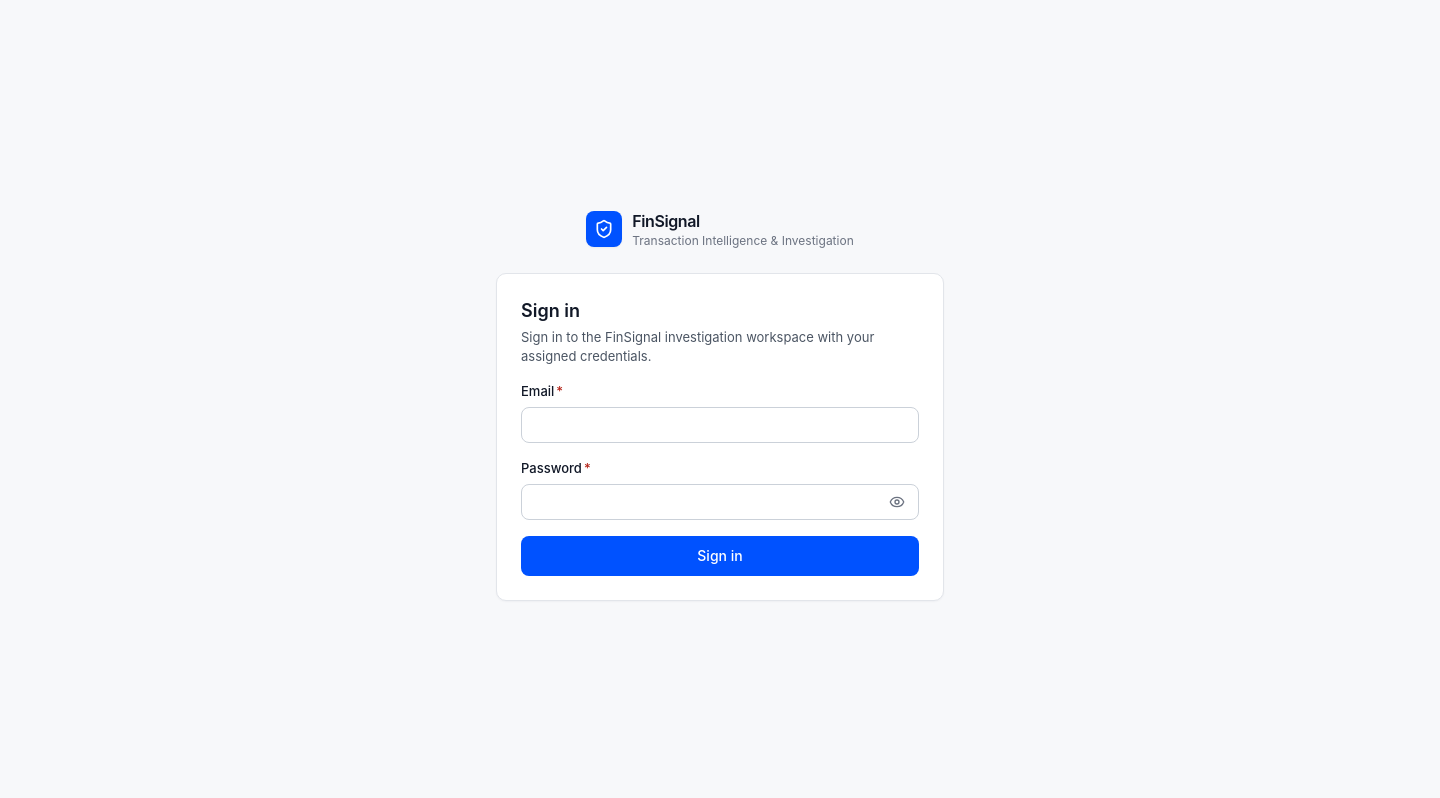
Test: LoginPage (F2.5) › disables submit during in-flight login to prevent duplicate submission
Later steps or results of the test are not shown.
Type "analyst@finsignal.test" into the field labelled "Email*". click: (720, 425)
box: [521,407,919,443]
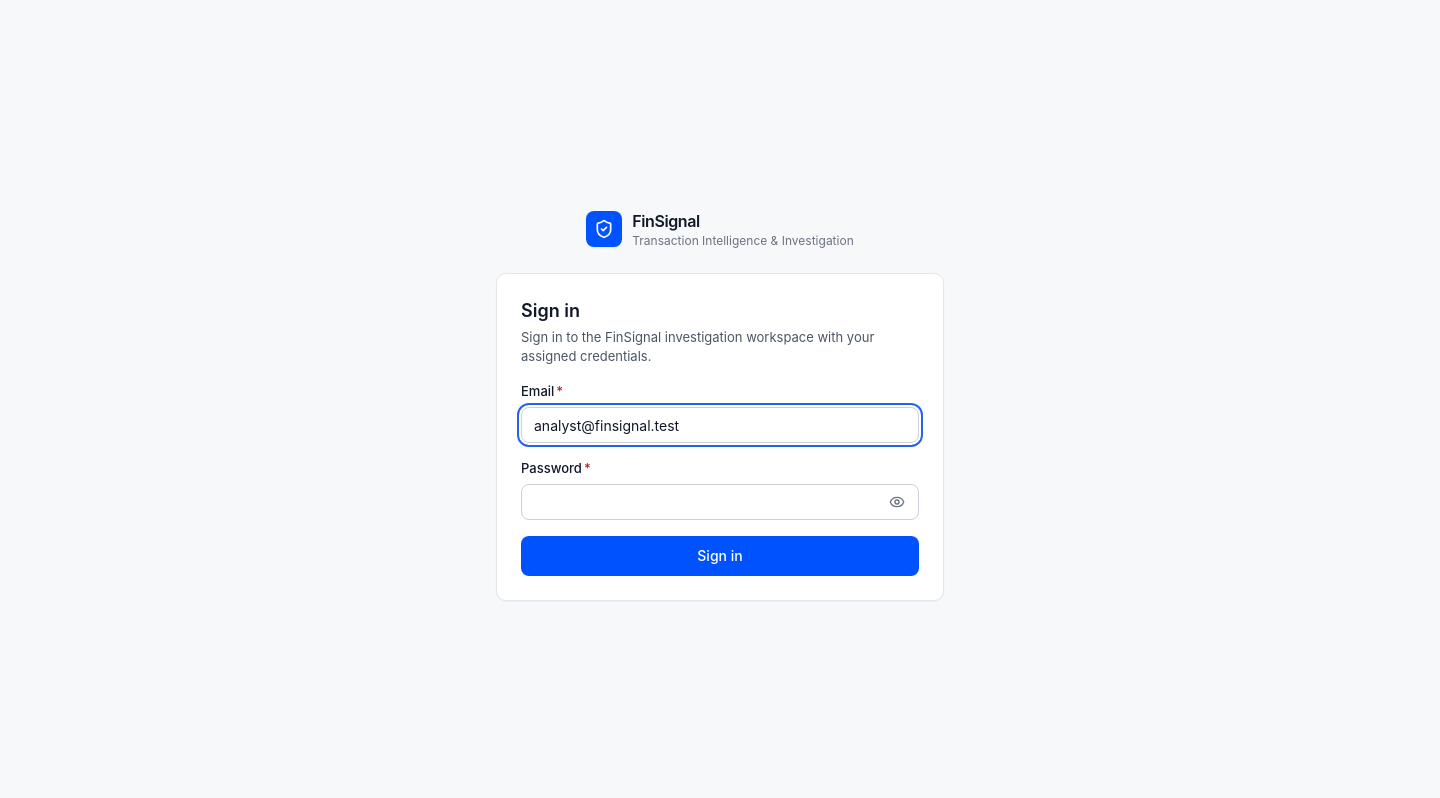
Type "valid-password" into the password field labelled "Password*". click: (720, 502)
box: [521,484,919,520]
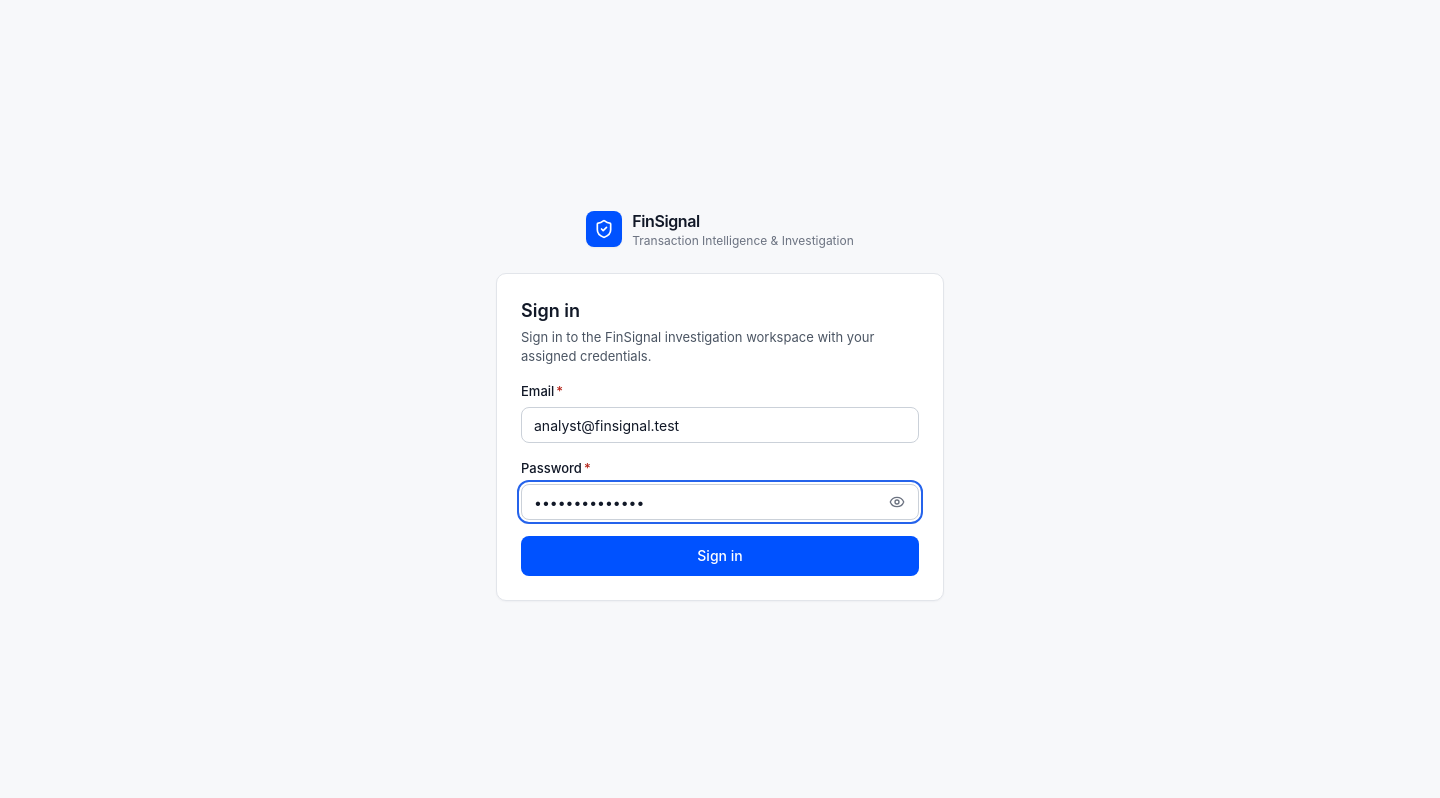
Click the button "Sign in". click: (720, 556)
box: [521,536,919,576]
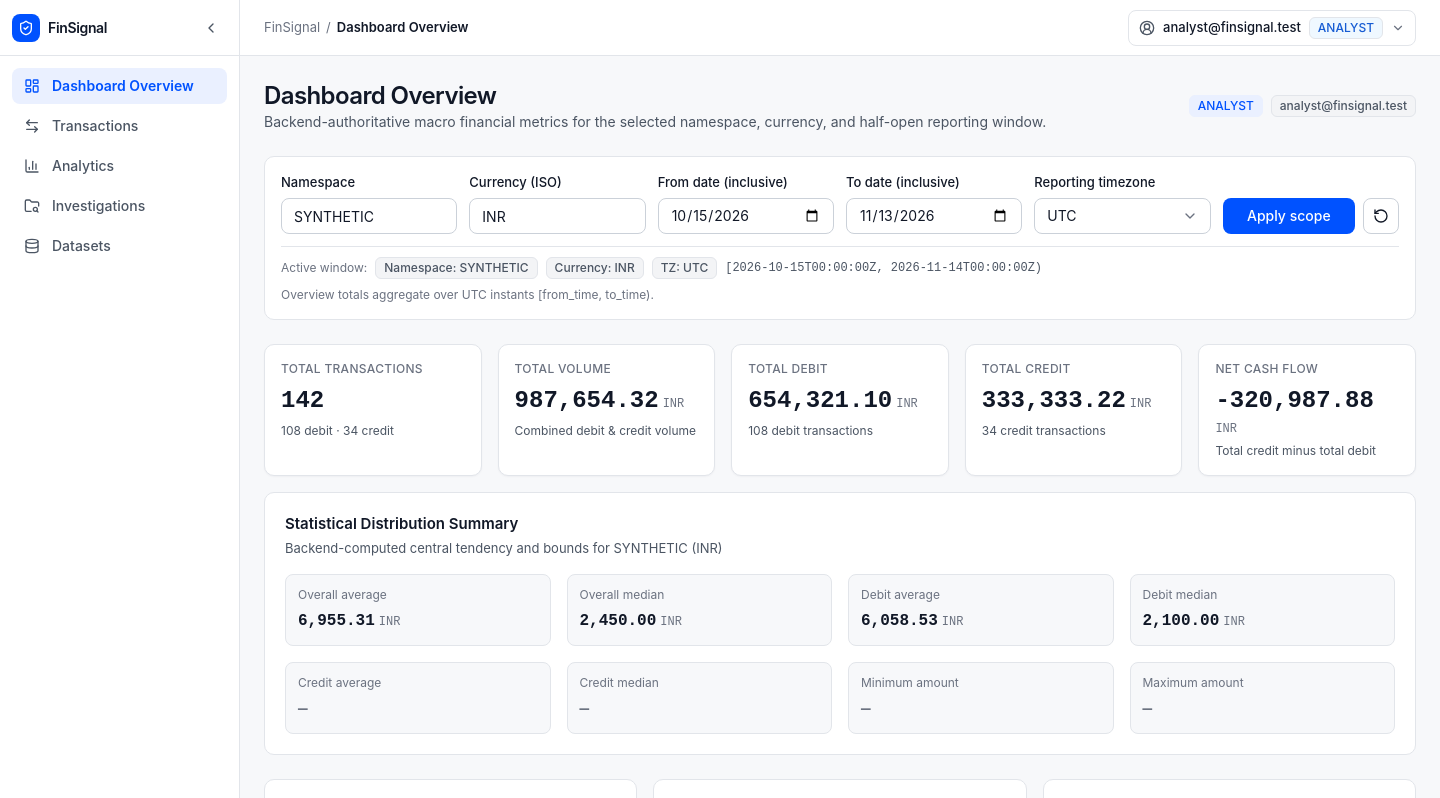
Result: the heading "Dashboard Overview" is shown at [264,81,496,110]
